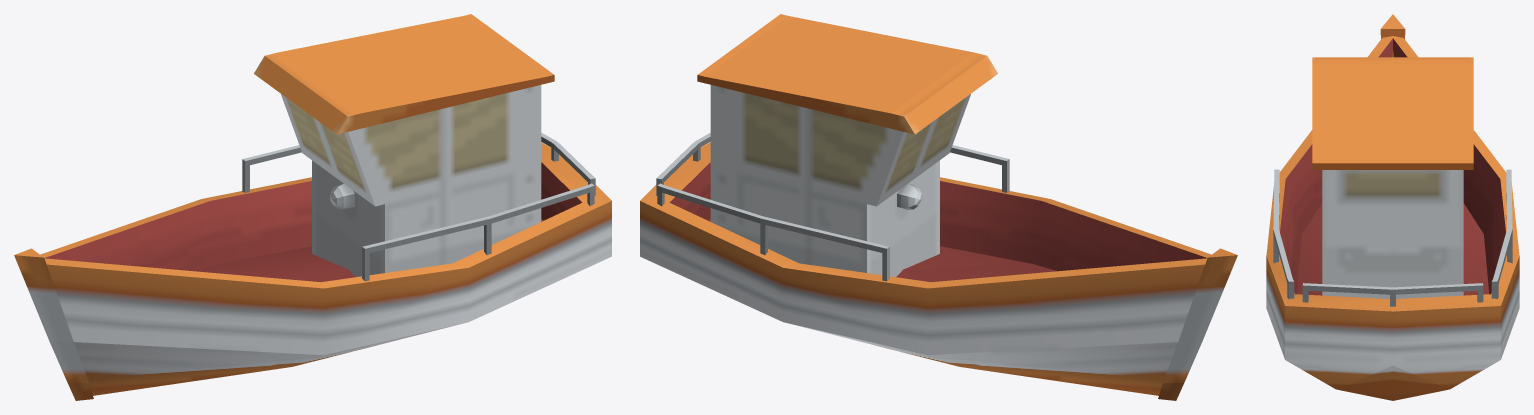
Rendered from boat_01_orange.fbx.
The picture shows the model from 3 angles, left to right: view 1: azimuth 30°, elevation 25°; view 2: azimuth 150°, elevation 25°; view 3: azimuth 270°, elevation 25°; orthographic projection. The views are drawn at different scales.
Parts seen in each view (by area): view 1: boat_01_orange; view 2: boat_01_orange; view 3: boat_01_orange.
Part boxes in pixels (x1,y1,x2,y2): boat_01_orange: (14, 14, 611, 400); boat_01_orange: (640, 14, 1237, 400); boat_01_orange: (1266, 14, 1519, 400).
Bounding box in the file's own units: 19.42 × 8.78 × 7.94.
Materials: 1 (1 with a texture image).
